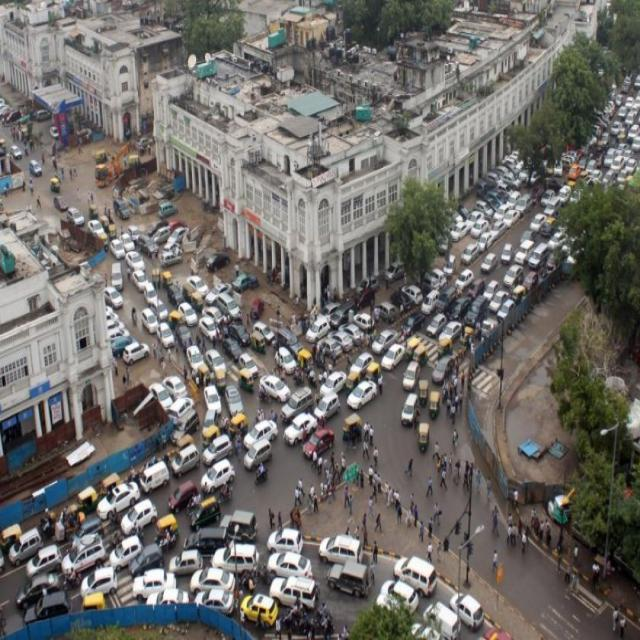traffic_incident: (139, 213, 232, 281)
